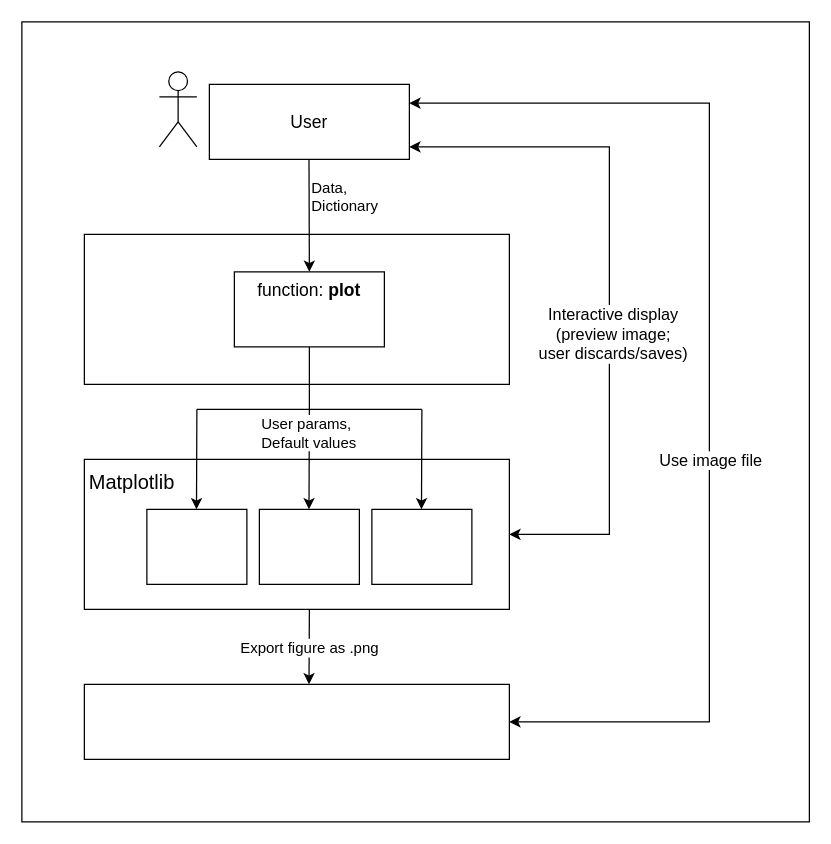
The diagram is 831 pixels wide and 844 high, and some of its shapes have lost their labels. The shapes that lost their labels are listed below. From the top down, each one's box as (x1, y1, x2, y2) in pixels, then its label:
(83, 233, 509, 384): Wrapplotlib
(83, 683, 509, 759): File System
